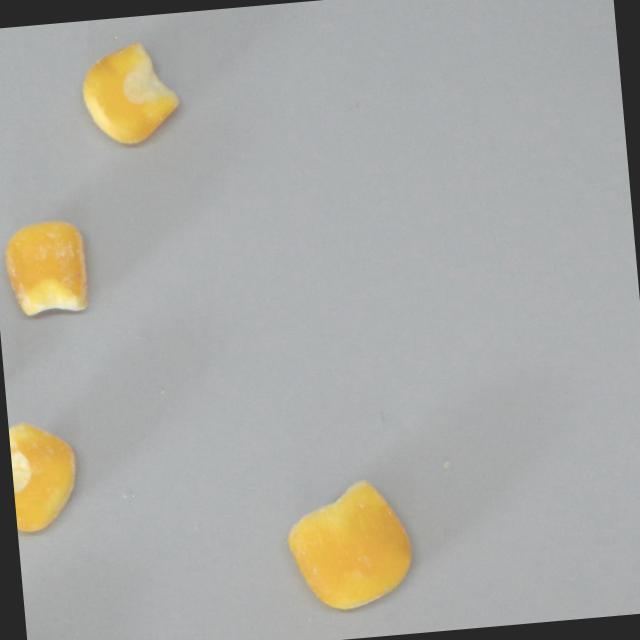no_canjicado: (289, 485, 413, 611), (77, 36, 183, 146), (8, 416, 81, 531)
pelicula: (0, 215, 91, 316)
